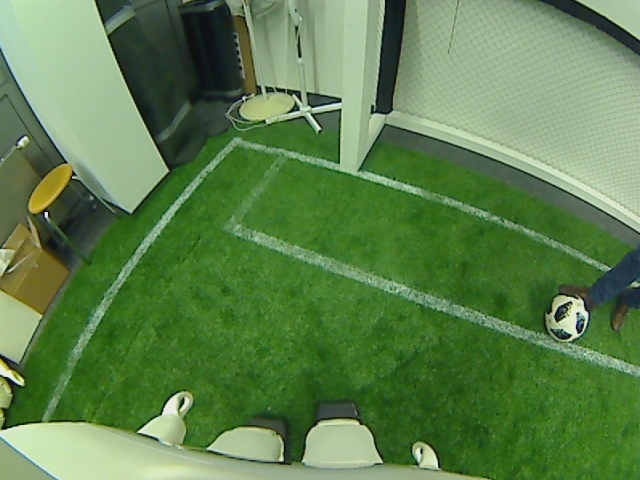ball: (543, 290, 590, 343)
